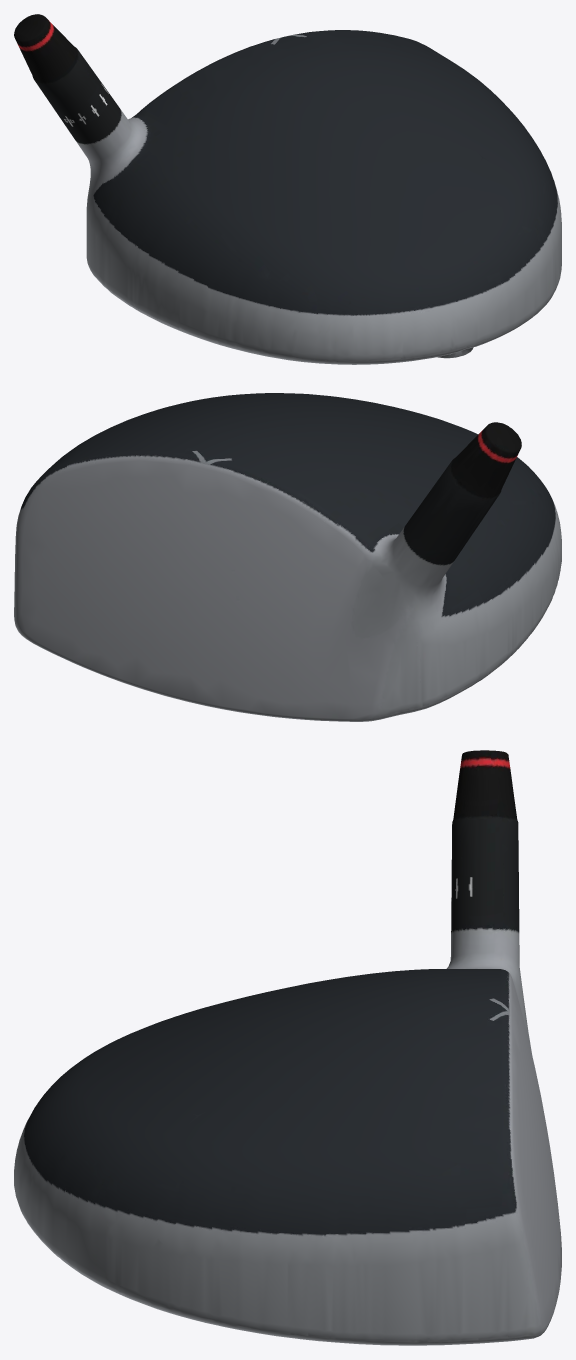
The picture shows the model from 3 angles, top to bottom: view 1: azimuth 30°, elevation 25°; view 2: azimuth 150°, elevation 25°; view 3: azimuth 270°, elevation 25°; orthographic projection. The views are drawn at different scales.
Visible parts, largest first — view 1: head; view 2: head; view 3: head.
Boxes of the visible parts, left/top/right/bottom form: head: left=14, top=14, right=561, bottom=364; head: left=14, top=393, right=561, bottom=721; head: left=14, top=750, right=561, bottom=1345.
Bounding box in the file's own units: 0.1374 × 0.0835 × 0.1145.
1 material, 1 textured.
